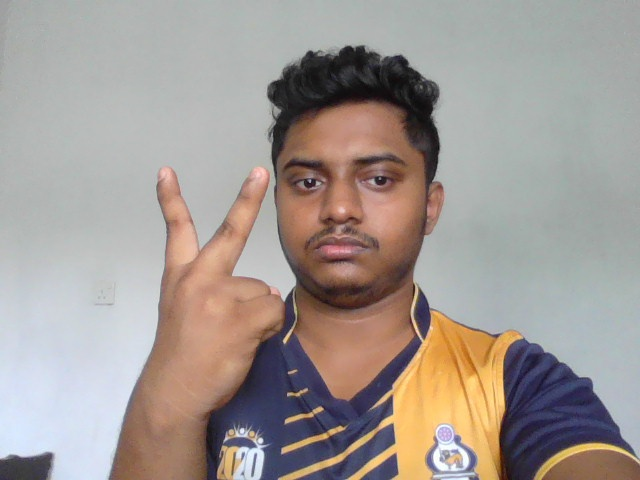See You: (148, 165, 289, 414)
